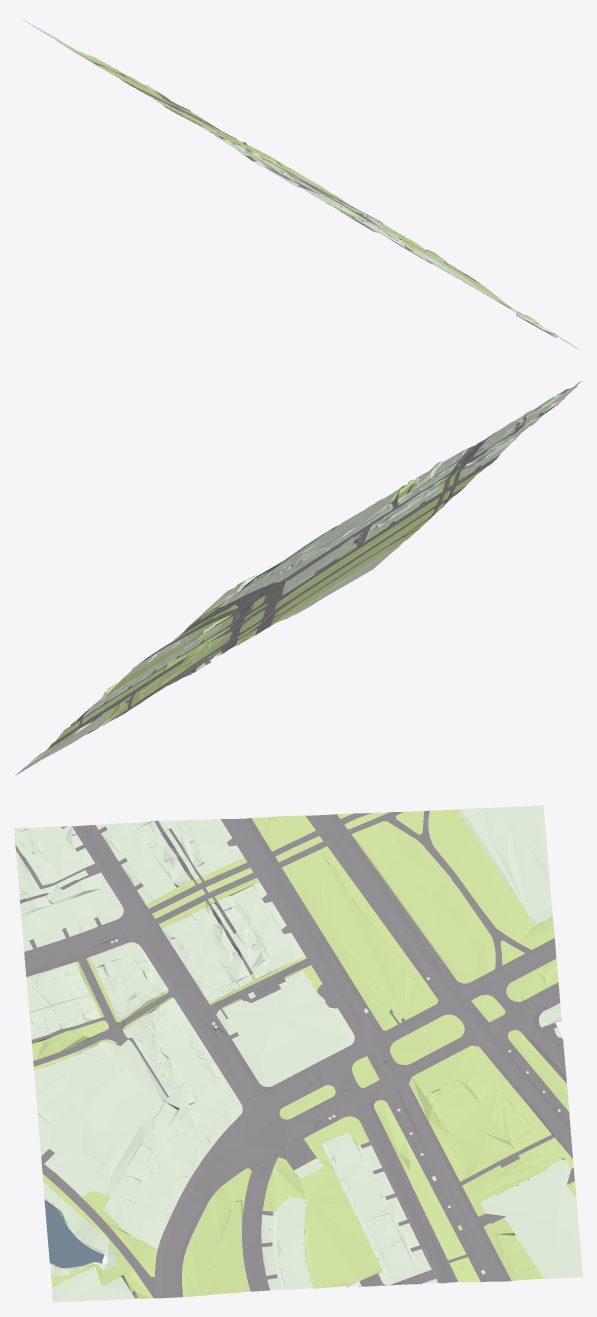
3 views of the same model, one above another, from view 1: azimuth 30°, elevation 25°; view 2: azimuth 150°, elevation 25°; view 3: azimuth 270°, elevation 25° (orthographic). The views are drawn at different scales.
Bounding box in the file's own units: 218 × 157 × 268.
